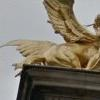Statue: (12, 6, 100, 78)
